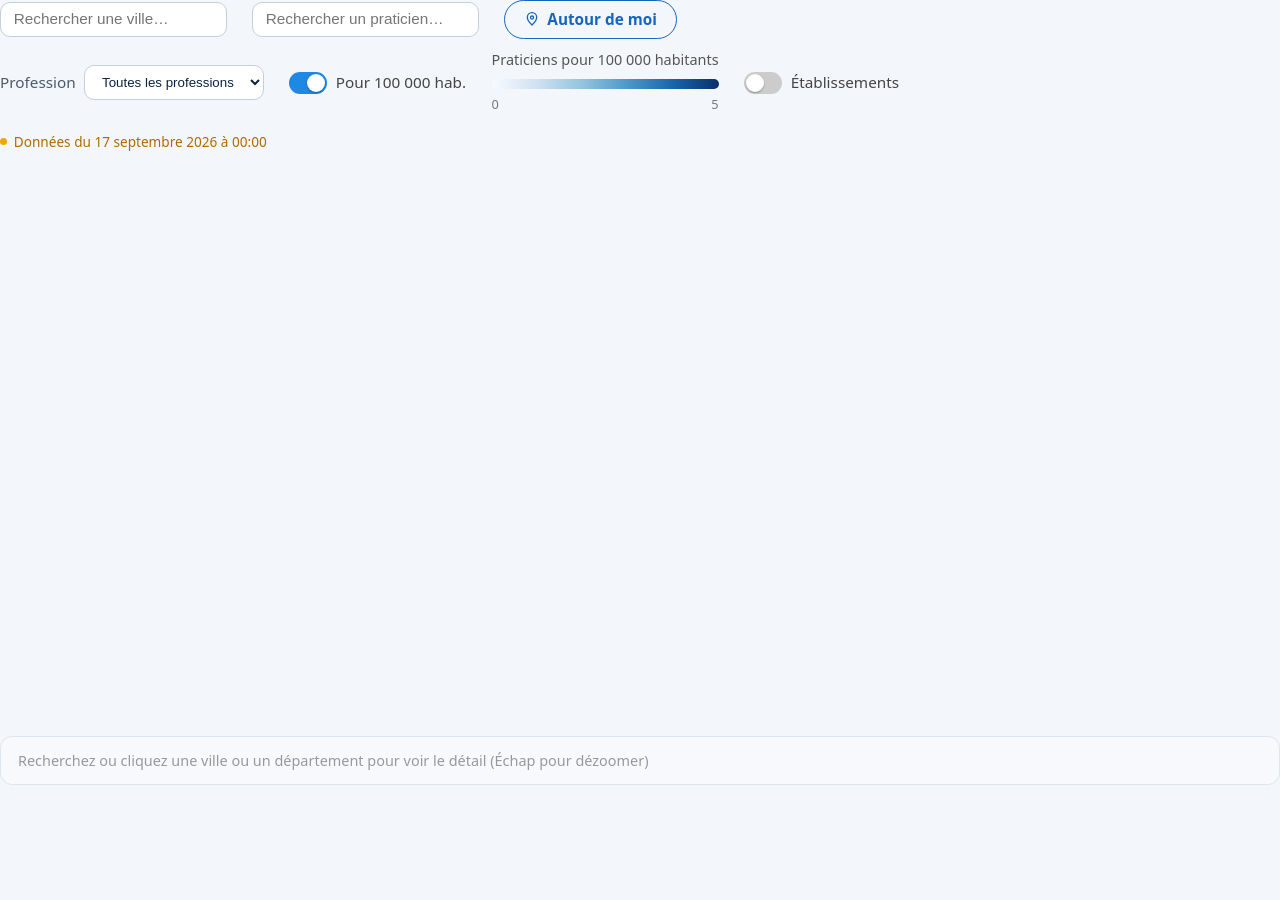
Test: LeafletFranceMap › spécialités, densité et « autour de moi » › « Autour de moi » › position imprécise (localisation par IP) : prévient et trace la zone d'incertitude sur la carte
The image size is (1280, 900).
Click the button "Autour de moi" at (590, 19), box [504,0,677,39]
(page scrolled)
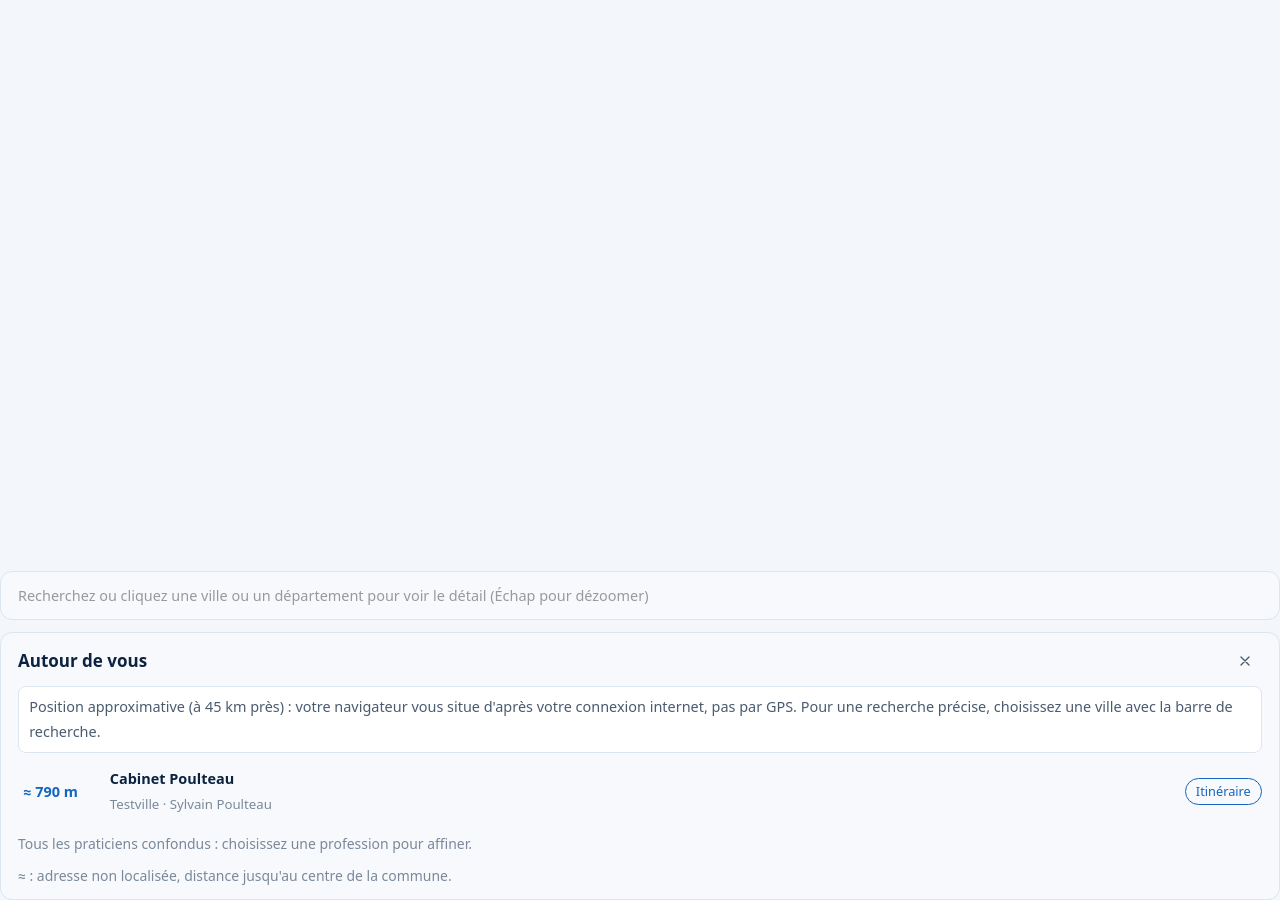
Expected: the message with class "nearby__warning" shows "Position approximative (à 45 km près)", [29,697,1233,741]
